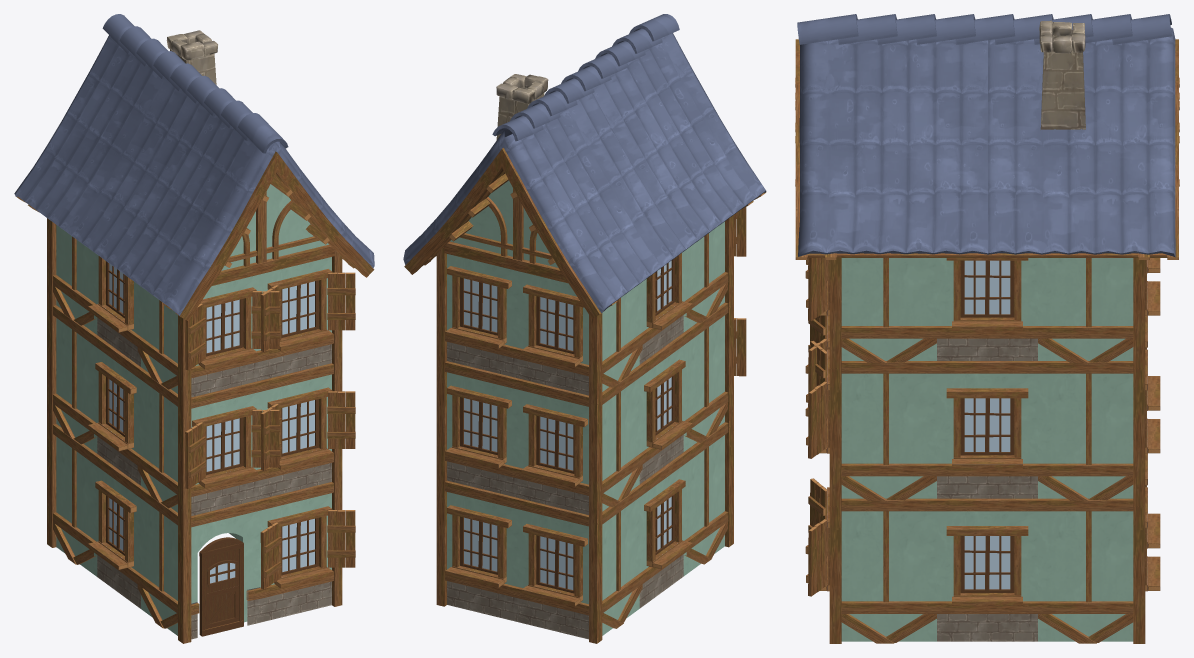
File: house_mint.glb
3 views of the same model, side by side, from view 1: azimuth 30°, elevation 25°; view 2: azimuth 150°, elevation 25°; view 3: azimuth 270°, elevation 25° (orthographic). The views are drawn at different scales.
Parts seen in each view (by area): view 1: Wall_Plaster_Door_Round, Roof_RoundTiles_4x6, Window_Wide_Flat1, Wall_Plaster_Window_Wide_Flat, Roof_Front_Brick4, Prop_Chimney; view 2: Wall_Plaster_Door_Round, Window_Wide_Flat1, Roof_RoundTiles_4x6, Wall_Plaster_Window_Wide_Flat, Roof_Front_Brick4, Prop_Chimney; view 3: Wall_Plaster_Door_Round, Roof_RoundTiles_4x6, Window_Wide_Flat1, Wall_Plaster_Window_Wide_Flat, Prop_Chimney.
Part boxes in pixels (x1,y1,x2,y2): Wall_Plaster_Door_Round: (15,151,374,639); Roof_RoundTiles_4x6: (14,14,374,315); Window_Wide_Flat1: (47,177,342,643); Wall_Plaster_Window_Wide_Flat: (97,318,331,622); Roof_Front_Brick4: (221,184,328,270); Prop_Chimney: (166,30,217,84); Wall_Plaster_Door_Round: (404,148,766,635); Window_Wide_Flat1: (436,173,733,643); Roof_RoundTiles_4x6: (403,14,766,313); Wall_Plaster_Window_Wide_Flat: (447,315,683,639); Roof_Front_Brick4: (450,180,558,267); Prop_Chimney: (496,74,548,139); Wall_Plaster_Door_Round: (795,39,1178,643); Roof_RoundTiles_4x6: (797,14,1175,257); Window_Wide_Flat1: (795,77,1179,643); Wall_Plaster_Window_Wide_Flat: (937,338,1037,641); Prop_Chimney: (1039,20,1085,129).
Size of the model in its own units: 5.51 by 12.78 by 7.59.
6 materials, 5 textured.
